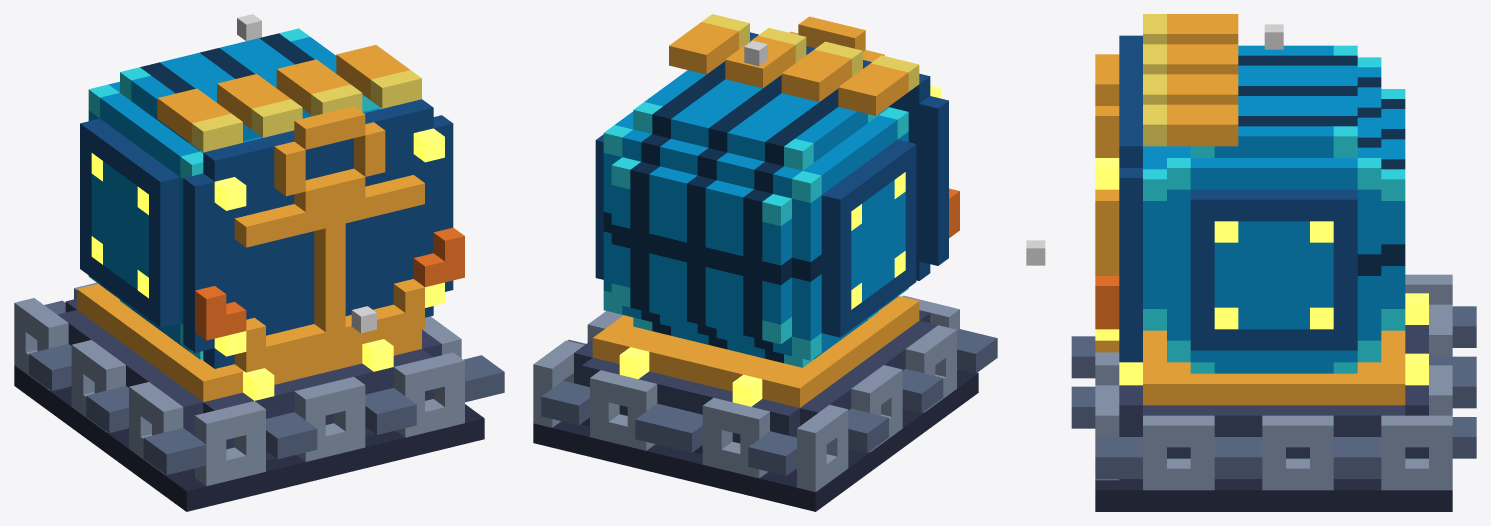
Rendered from AnchorFists.fbx.
3 views of the same model, side by side, from view 1: azimuth 30°, elevation 25°; view 2: azimuth 150°, elevation 25°; view 3: azimuth 270°, elevation 25° (orthographic). The views are drawn at different scales.
Visible parts, largest first — view 1: blue_d, gold, steel, blue, iron_d, steel_d, iron, gold_l, seam, gold_d, blue_l, blue_dd (+2 smaller); view 2: blue, gold, steel, blue_dd, blue_d, iron_d, steel_d, iron, blue_l, seam, gold_l, TipMark; view 3: blue, gold, blue_d, steel, steel_d, iron_d, iron, blue_l, blue_dd, seam, gold_l, gold_d (+2 smaller).
Part boxes in pixels (box(x1,y1,x2,y2)): blue_d: box(80, 99, 453, 368); gold: box(77, 45, 424, 401); steel: box(14, 282, 464, 486); blue: box(88, 37, 380, 350); iron_d: box(14, 365, 484, 511); steel_d: box(29, 300, 504, 474); iron: box(57, 298, 441, 460); gold_l: box(192, 70, 421, 152); seam: box(91, 128, 444, 400); gold_d: box(195, 227, 464, 340); blue_l: box(88, 28, 381, 359); blue_dd: box(140, 33, 314, 93); blue: box(603, 70, 908, 359); gold: box(592, 16, 919, 407); steel: box(533, 295, 959, 492); blue_dd: box(603, 61, 838, 363); blue_d: box(595, 32, 948, 337); iron_d: box(533, 369, 978, 511); steel_d: box(541, 329, 997, 475); iron: box(574, 310, 937, 474); blue_l: box(603, 102, 908, 367); seam: box(619, 85, 940, 406); gold_l: box(702, 14, 919, 91); TipMark: box(744, 40, 767, 66); blue: box(1143, 45, 1405, 373); gold: box(1095, 14, 1405, 405); blue_d: box(1119, 35, 1357, 362); steel: box(1095, 274, 1452, 490); steel_d: box(1071, 306, 1476, 478); iron_d: box(1095, 479, 1452, 511); iron: box(1119, 325, 1428, 480); blue_l: box(1143, 45, 1405, 373); blue_dd: box(1238, 55, 1405, 275); seam: box(1095, 158, 1428, 385); gold_l: box(1143, 14, 1166, 146); gold_d: box(1095, 276, 1119, 329).
Bounding box in the file's own units: 170 × 189 × 189.
